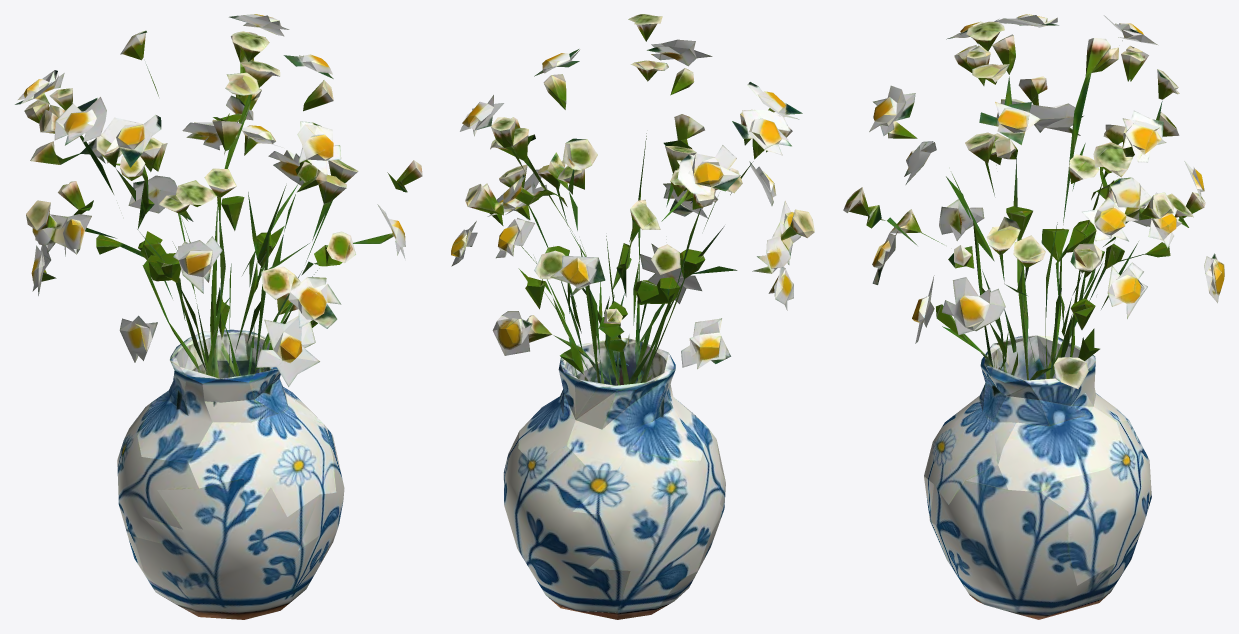
The model's file is vase.glb.
The picture shows the model from 3 angles, left to right: view 1: azimuth 30°, elevation 25°; view 2: azimuth 150°, elevation 25°; view 3: azimuth 270°, elevation 25°; orthographic projection. The views are drawn at different scales.
Bounding box in the file's own units: 1.22 × 1.89 × 1.16.
1 material, 1 textured.
